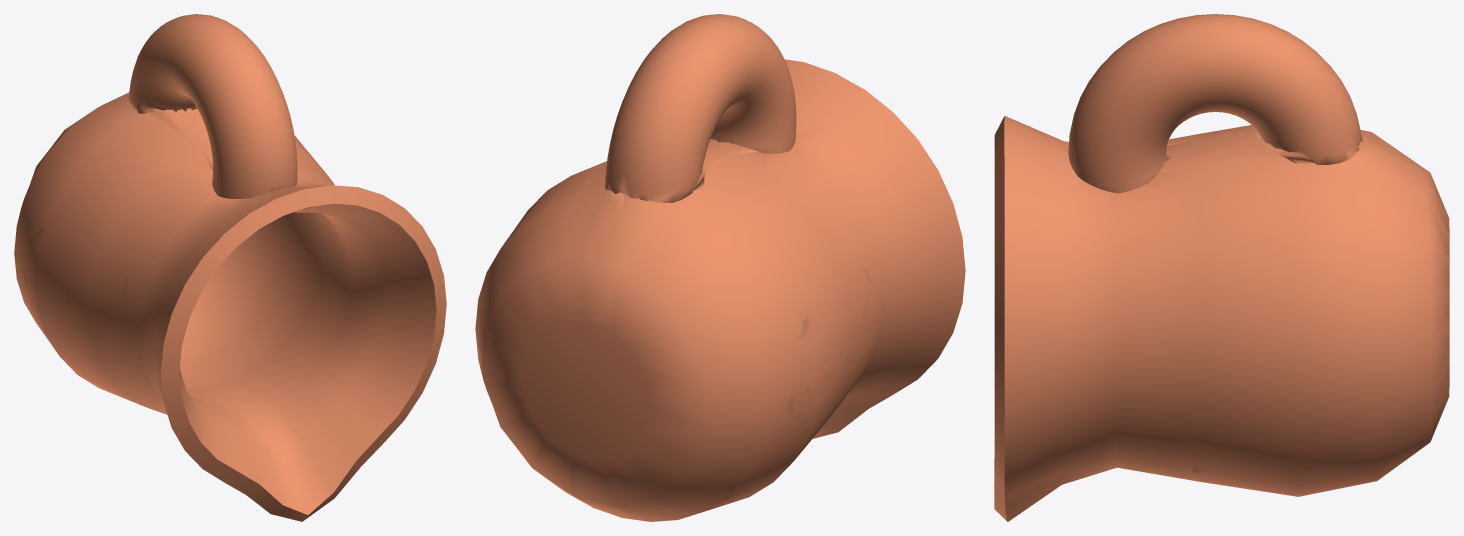
The picture shows the model from 3 angles, left to right: view 1: azimuth 30°, elevation 25°; view 2: azimuth 150°, elevation 25°; view 3: azimuth 270°, elevation 25°; orthographic projection. The views are drawn at different scales.
Bounding box in the file's own units: 0.6913 × 1 × 0.8199.
